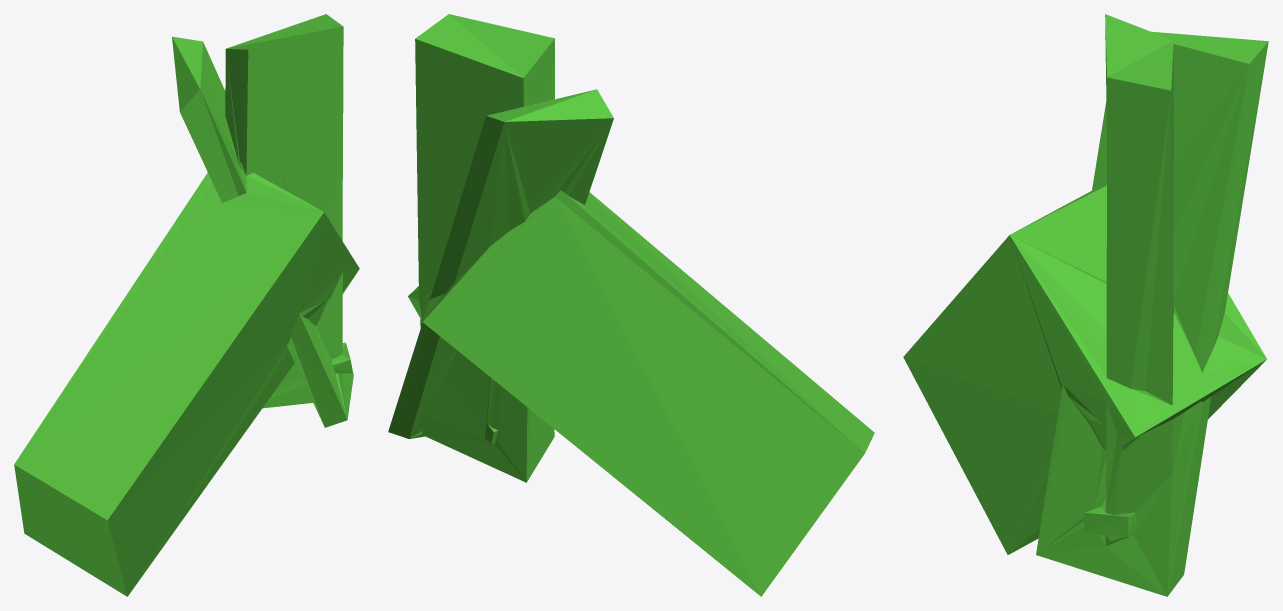
3 views of the same model, side by side, from view 1: azimuth 30°, elevation 25°; view 2: azimuth 150°, elevation 25°; view 3: azimuth 270°, elevation 25° (orthographic). The views are drawn at different scales.
Parts seen in each view (by area): view 1: 272_Cube.1112; view 2: 272_Cube.1112; view 3: 272_Cube.1112.
Part boxes in pixels (left/top/right/bottom): 272_Cube.1112: left=14, top=14, right=359, bottom=596; 272_Cube.1112: left=388, top=14, right=874, bottom=596; 272_Cube.1112: left=903, top=14, right=1268, bottom=596.
Size of the model in its own units: 13.35 by 15.88 by 8.17.
